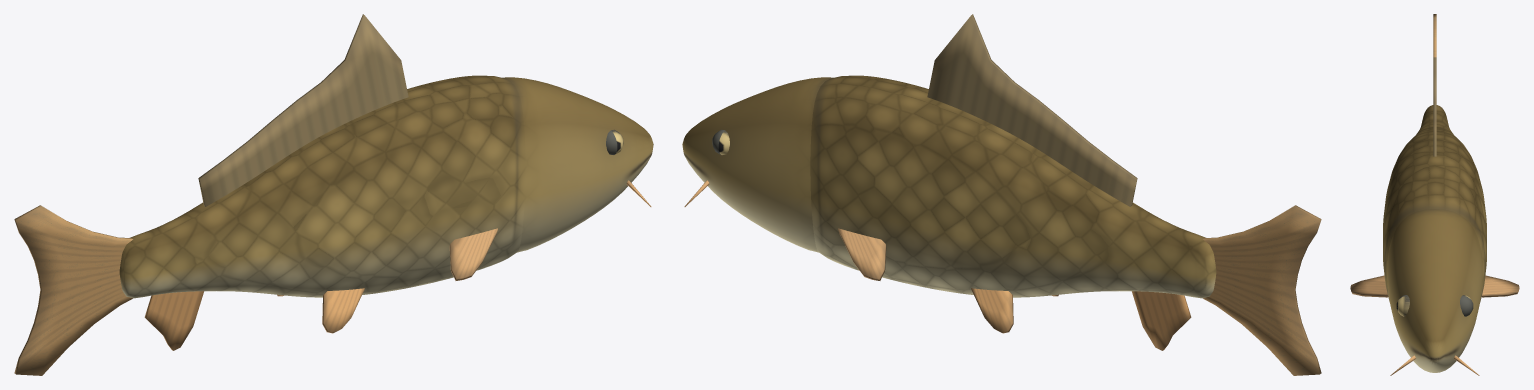
Rendered from fish_carp.fbx.
3 views of the same model, side by side, from view 1: azimuth 30°, elevation 25°; view 2: azimuth 150°, elevation 25°; view 3: azimuth 270°, elevation 25° (orthographic). The views are drawn at different scales.
Visible parts, largest first — view 1: fish_carp; view 2: fish_carp; view 3: fish_carp.
Boxes of the visible parts, x1,y1,x2,y2 form: fish_carp: (14,14,653,375); fish_carp: (682,14,1321,375); fish_carp: (1350,14,1519,375).
Bounding box in the file's own units: 49.76 × 21.53 × 13.12.
1 material, 1 textured.
